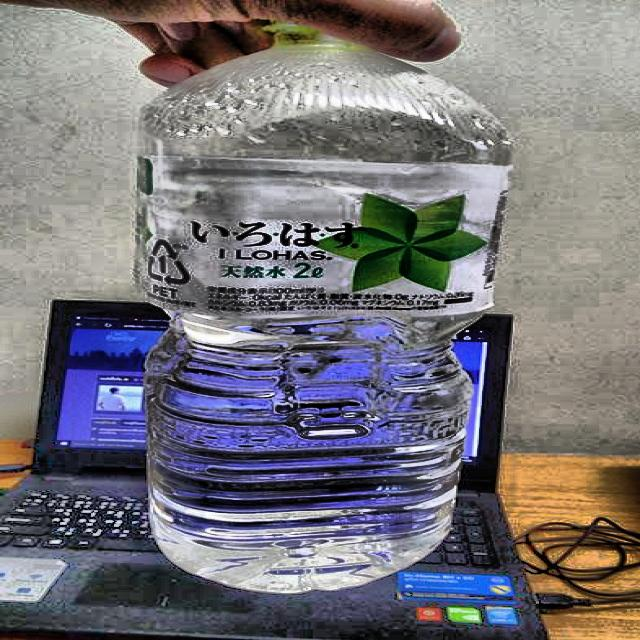Bottles: (117, 9, 516, 609)
